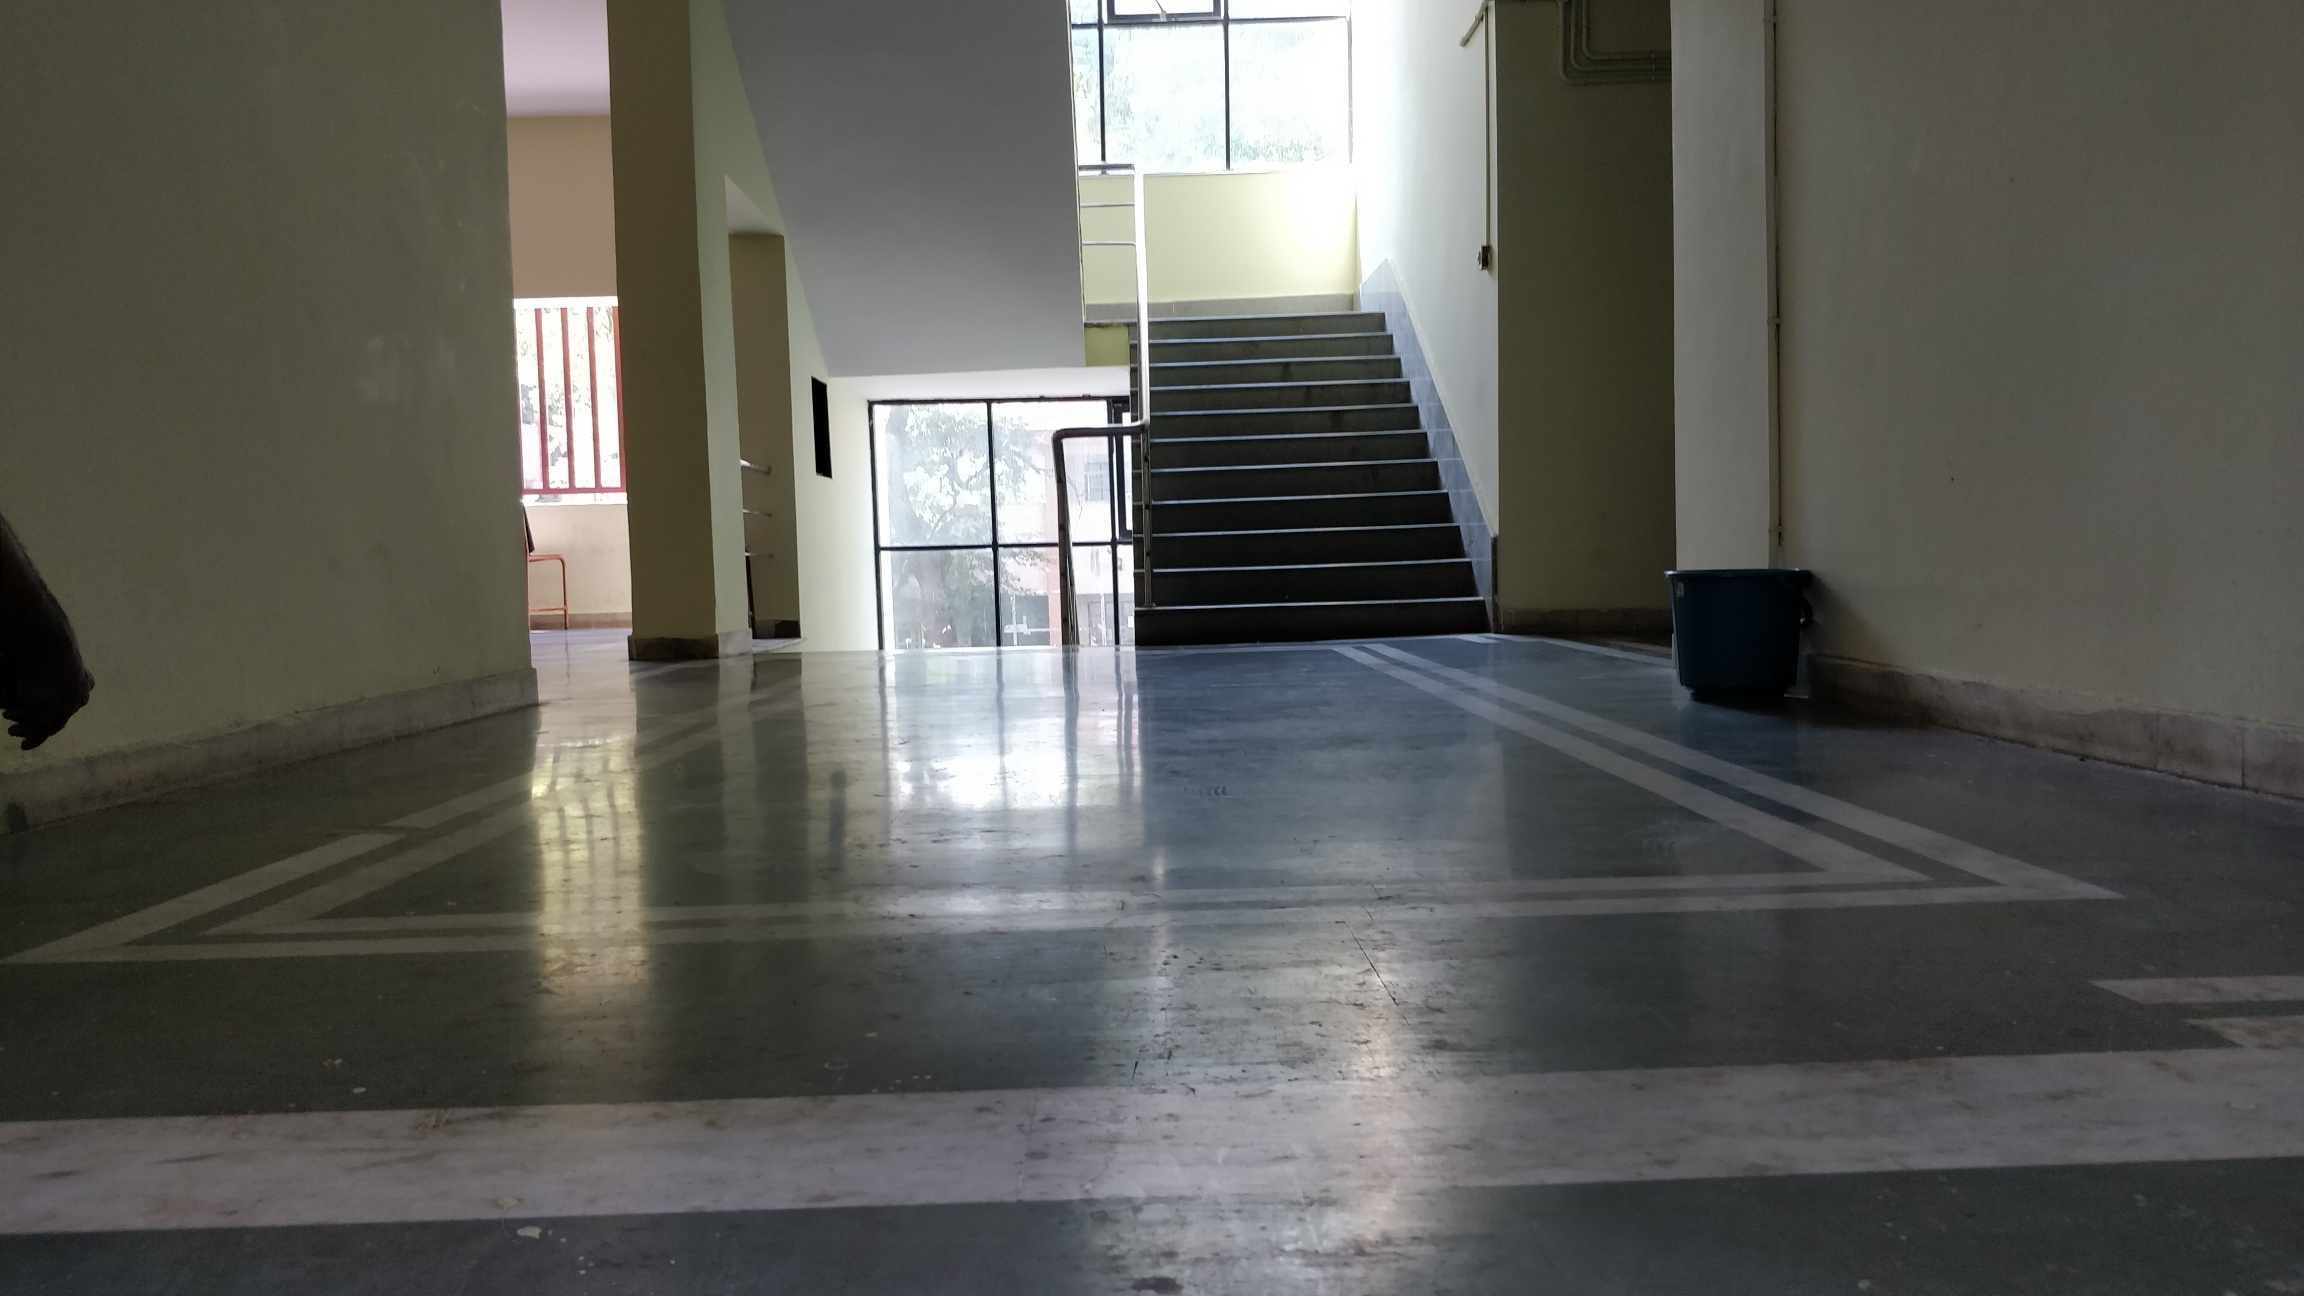stairs_up: (1127, 316, 1491, 631)
